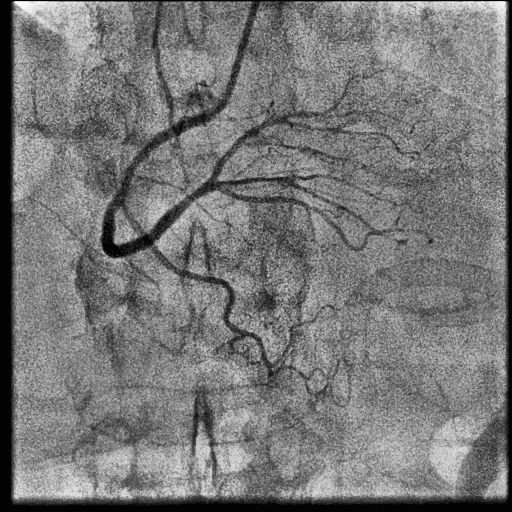pborca: (211, 71, 382, 179)
pda: (218, 187, 406, 251)
rca: (101, 102, 227, 257)
